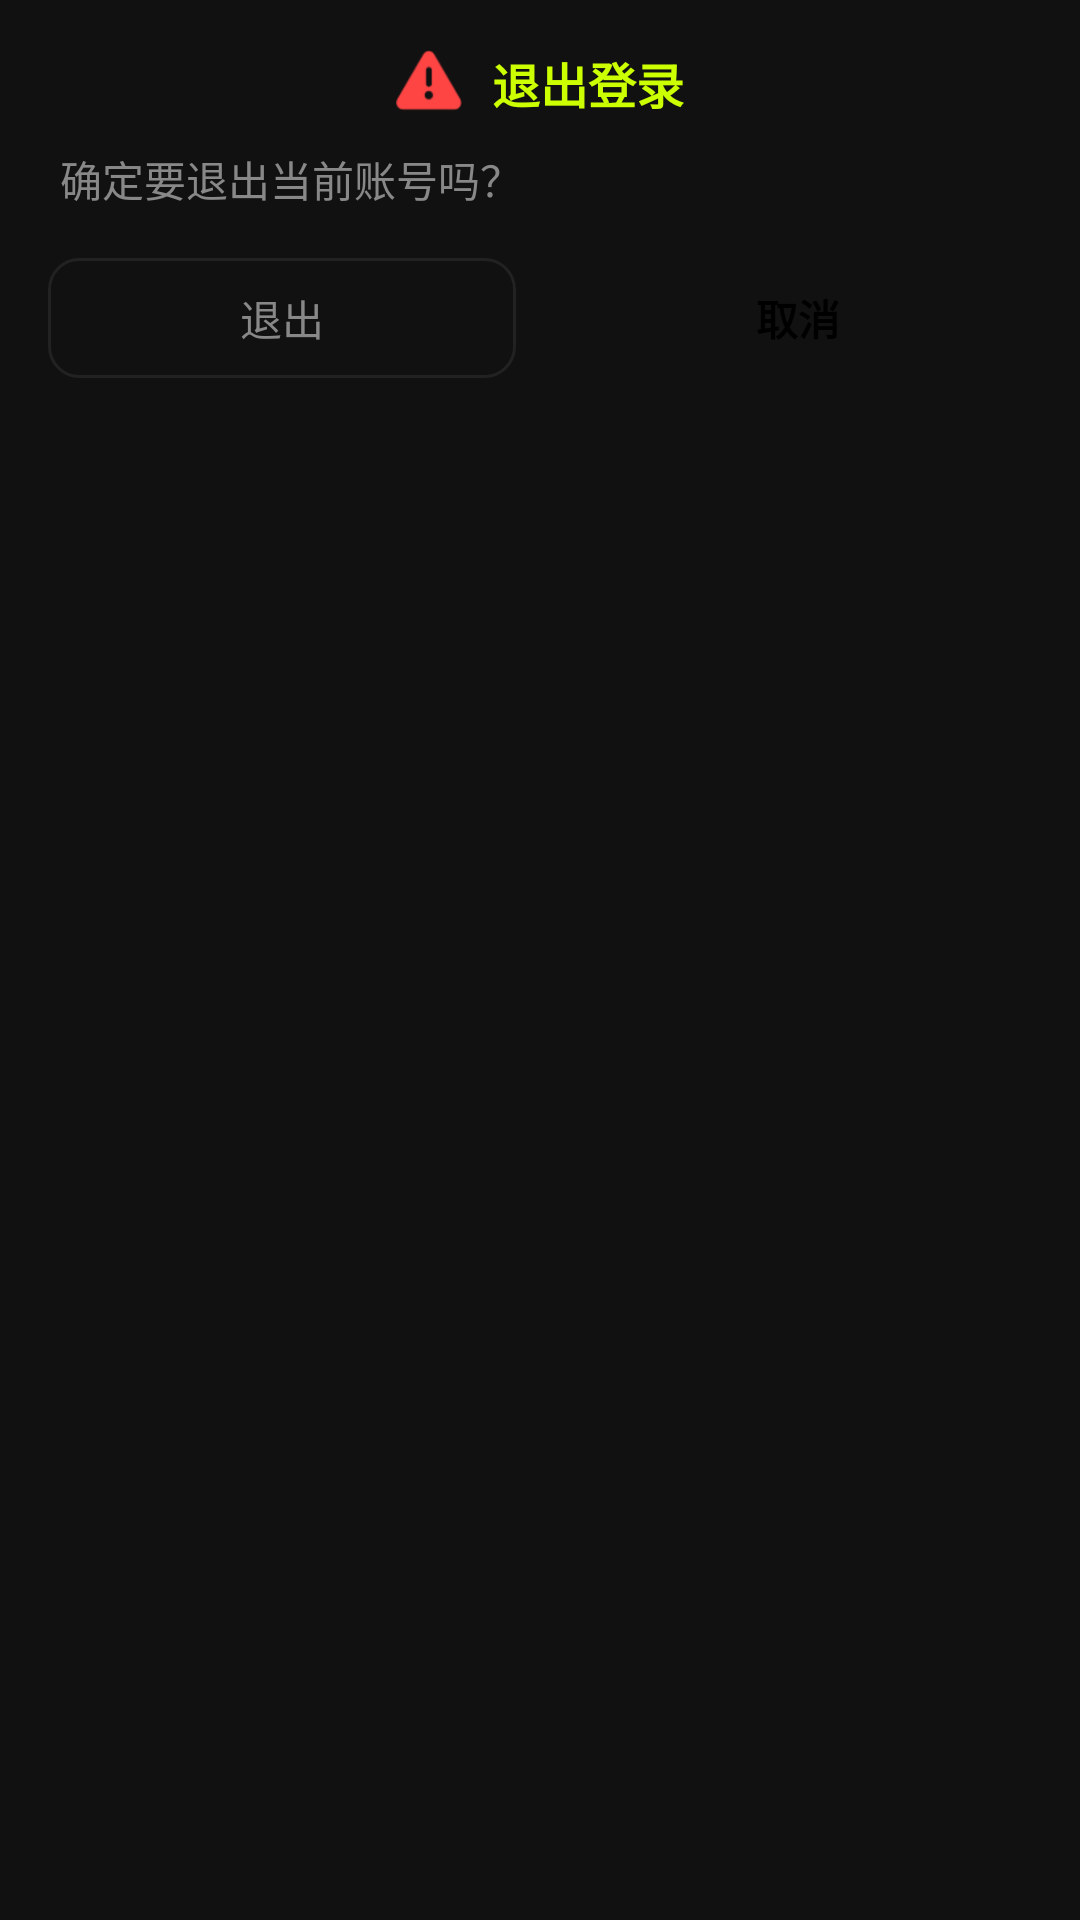

Where to tap for icons on this 1080x1920 app screen, as [x,y]:
alert: [429,80]
